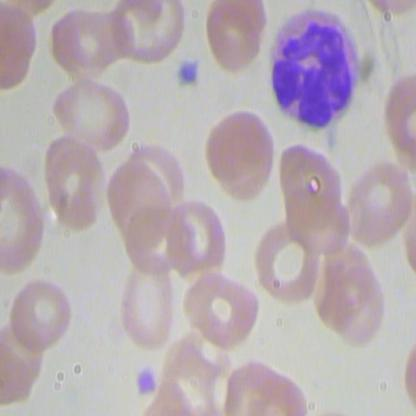Platelets: (133, 362, 159, 401), (176, 54, 201, 89)
RBC: (33, 129, 115, 242), (198, 107, 280, 205), (338, 159, 415, 255), (49, 73, 135, 158), (179, 270, 261, 357), (112, 253, 177, 354), (255, 215, 321, 309), (110, 1, 191, 67), (8, 275, 72, 356), (1, 166, 46, 280), (204, 1, 272, 75)
WBC: (260, 6, 362, 138)
